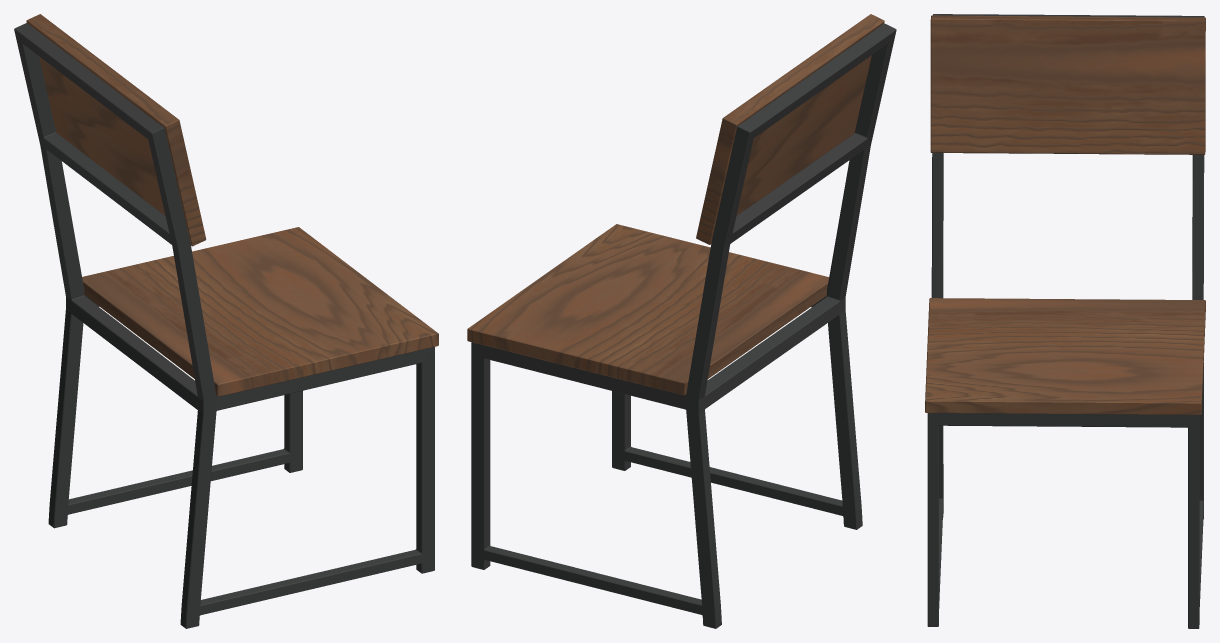
Rendered from chair1.obj.
3 views of the same model, side by side, from view 1: azimuth 30°, elevation 25°; view 2: azimuth 150°, elevation 25°; view 3: azimuth 270°, elevation 25° (orthographic). The views are drawn at different scales.
Parts seen in each view (by area): view 1: Cube.003; view 2: Cube.003; view 3: Cube.003.
Boxes of the visible parts, <box> form: Cube.003: <box>14,14,438,628</box>; Cube.003: <box>467,14,896,628</box>; Cube.003: <box>925,14,1205,628</box>.
Size of the model in its own units: 0.4649 by 0.7896 by 0.4101.
